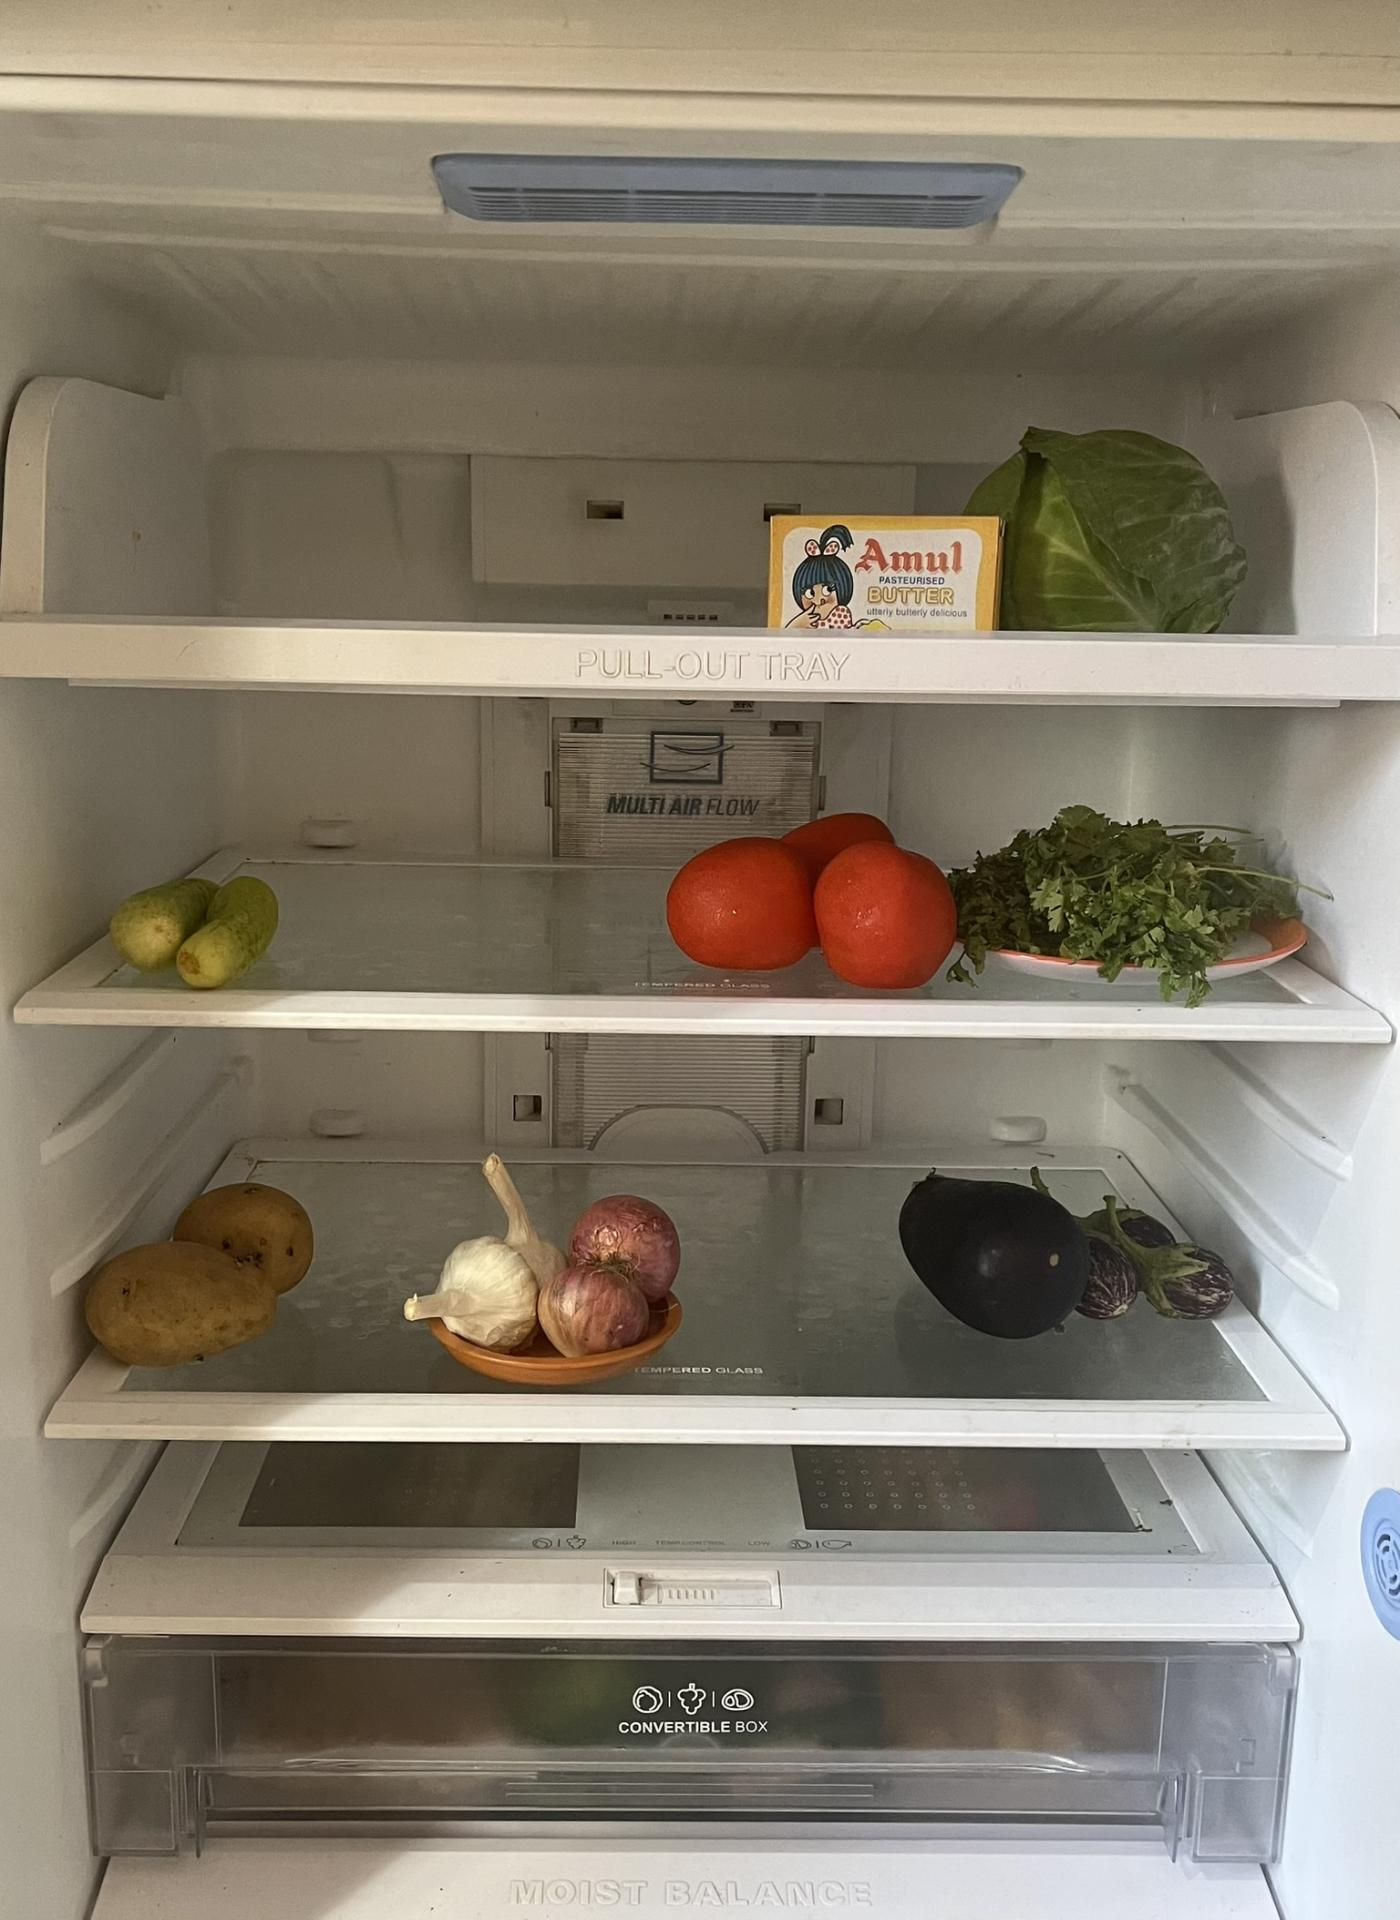butter: (762, 493, 1002, 634)
cabbage: (963, 419, 1258, 628)
coriander: (960, 796, 1309, 956)
cucumber: (112, 863, 289, 987)
garlic: (404, 1152, 541, 1354)
onion: (553, 1191, 687, 1360)
potato: (76, 1169, 319, 1365)
tomato: (662, 800, 969, 994)
